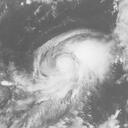cyclone: (34, 29, 100, 83)
